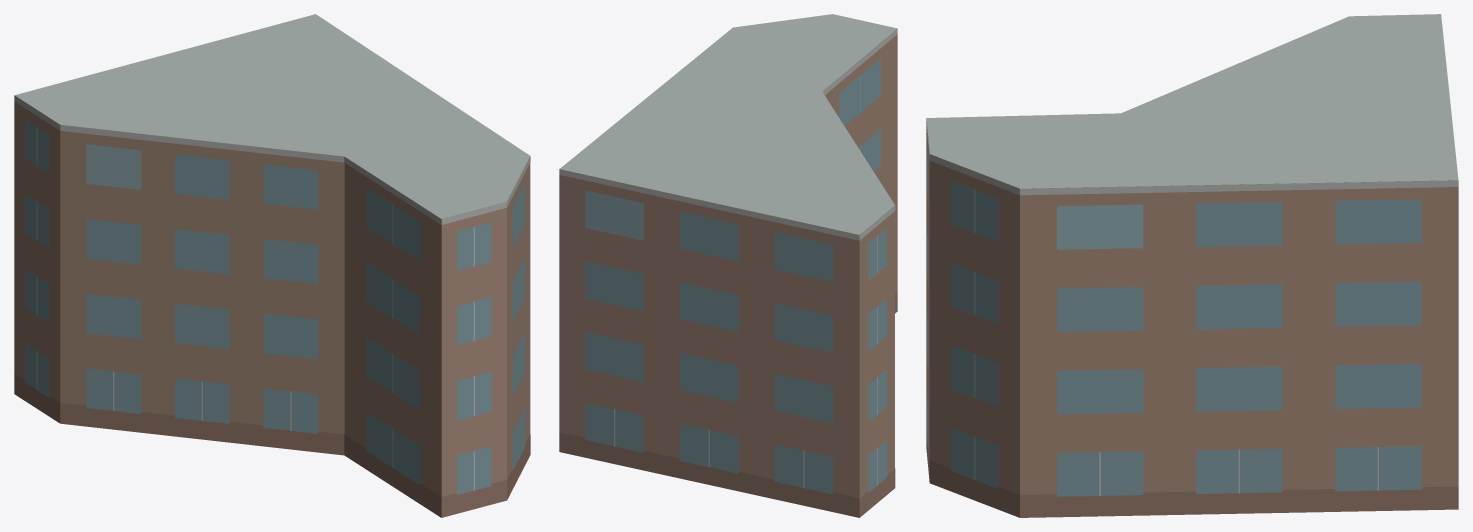
File: survey-upis-32696756.glb
The picture shows the model from 3 angles, left to right: view 1: azimuth 30°, elevation 25°; view 2: azimuth 150°, elevation 25°; view 3: azimuth 270°, elevation 25°; orthographic projection. The views are drawn at different scales.
Visible parts, largest first — view 1: survey-upis-32696756.tmp; view 2: survey-upis-32696756.tmp; view 3: survey-upis-32696756.tmp.
Part boxes in pixels (x1=…): survey-upis-32696756.tmp: x1=14, y1=14, x2=530, y2=517; survey-upis-32696756.tmp: x1=559, y1=14, x2=897, y2=517; survey-upis-32696756.tmp: x1=926, y1=14, x2=1458, y2=517.
Size of the model in its own units: 13.66 by 12 by 17.59.
